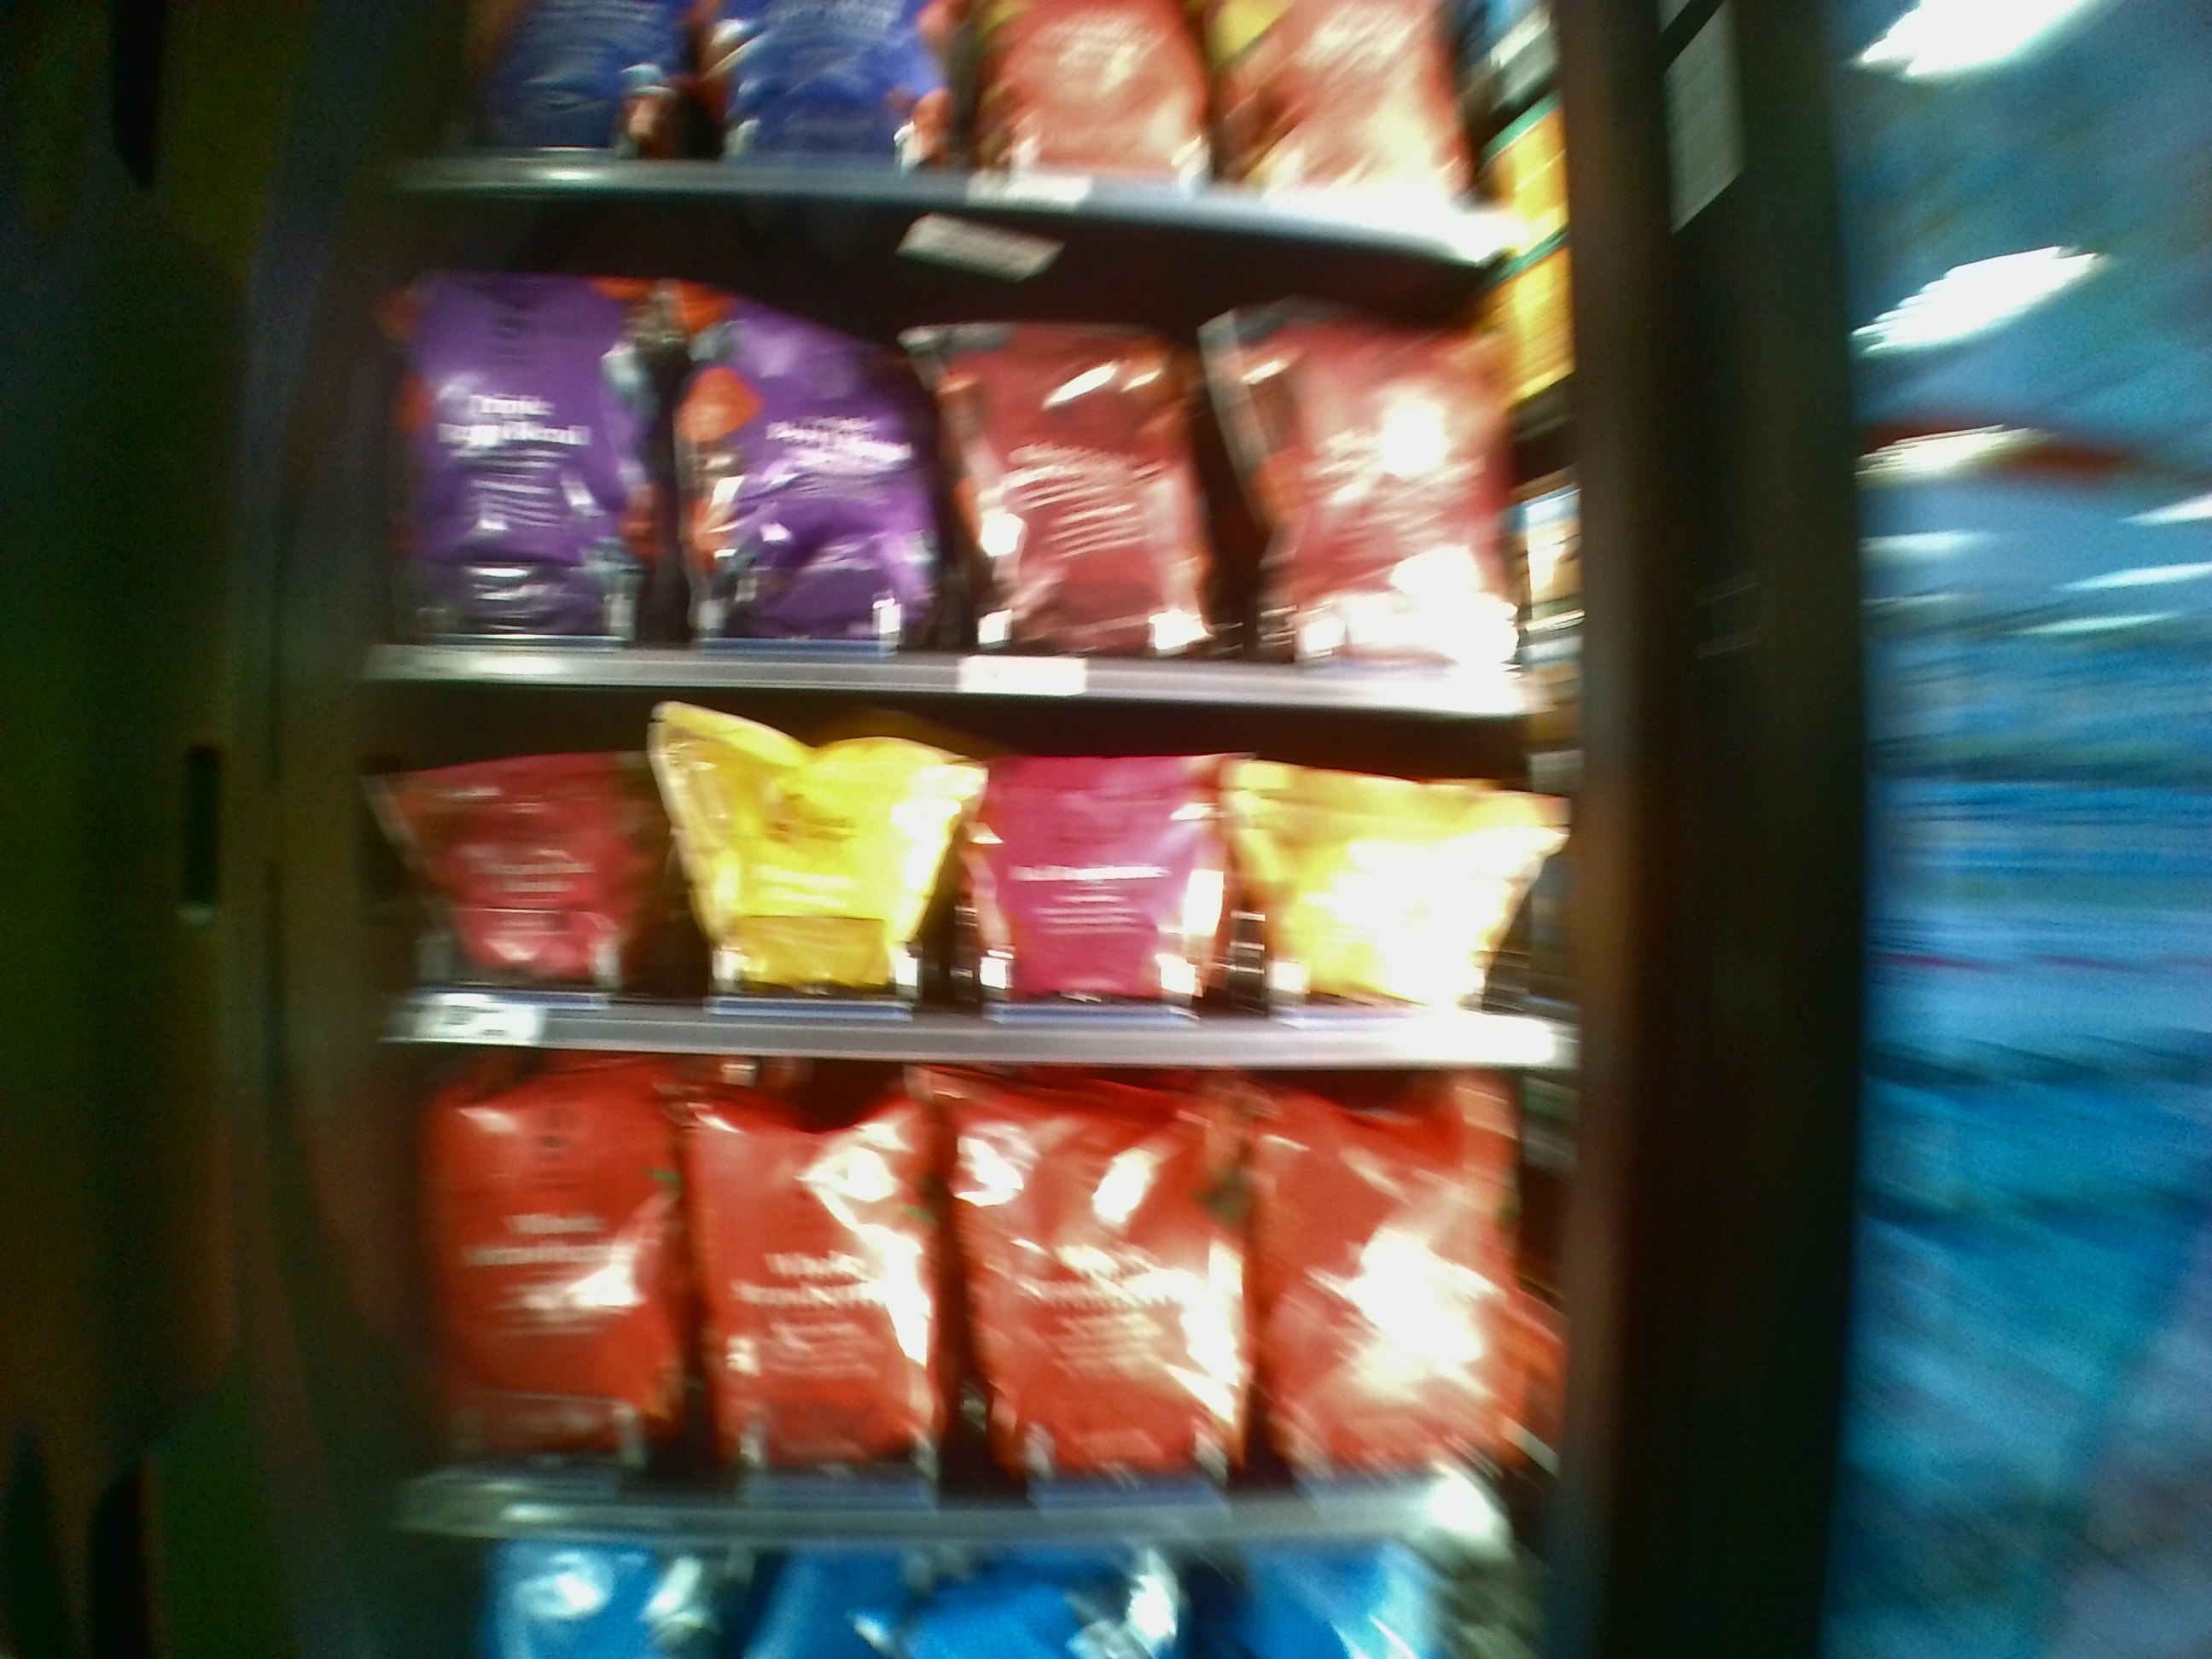shelf: (374, 225, 1540, 714), (388, 1053, 1540, 1544), (366, 714, 1552, 1070)
